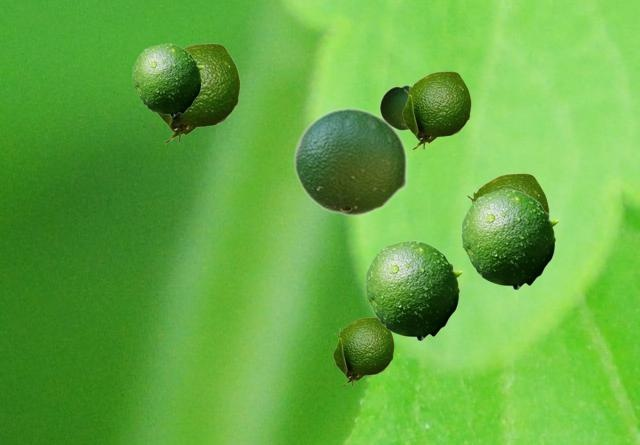dalandan: (293, 107, 407, 216), (461, 189, 558, 289), (365, 240, 462, 340), (150, 43, 239, 143), (401, 71, 470, 149), (132, 43, 203, 116), (332, 317, 393, 386), (466, 173, 548, 211), (379, 84, 411, 130)
